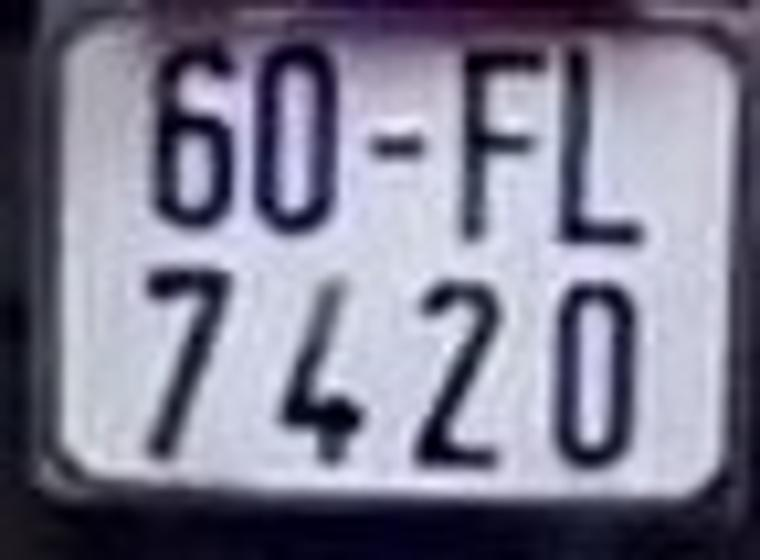-: (367, 129, 429, 168)
0: (549, 273, 642, 469), (254, 36, 344, 234)
2: (410, 273, 513, 481)
4: (271, 275, 363, 470)
6: (144, 32, 240, 226)
7: (131, 248, 239, 469)
F: (453, 39, 549, 244)
L: (559, 38, 659, 253)
